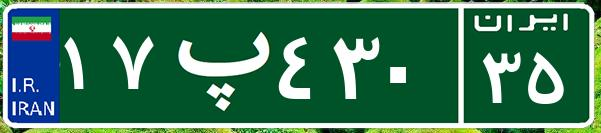0: (385, 28, 445, 110)
1: (57, 26, 110, 107)
3: (330, 28, 385, 110), (475, 38, 525, 113)
4: (273, 28, 330, 110)
5: (525, 38, 570, 115)
7: (110, 28, 158, 105)
پ: (158, 15, 273, 115)
